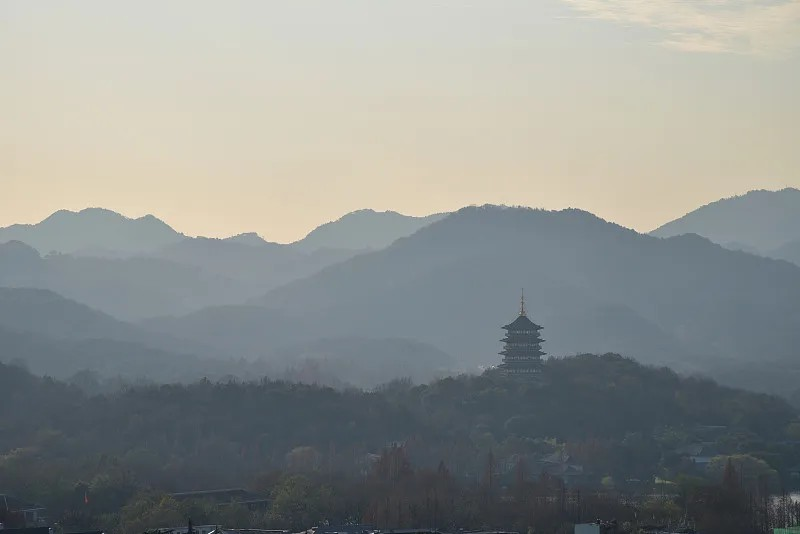Leifeng: (500, 288, 546, 379)
